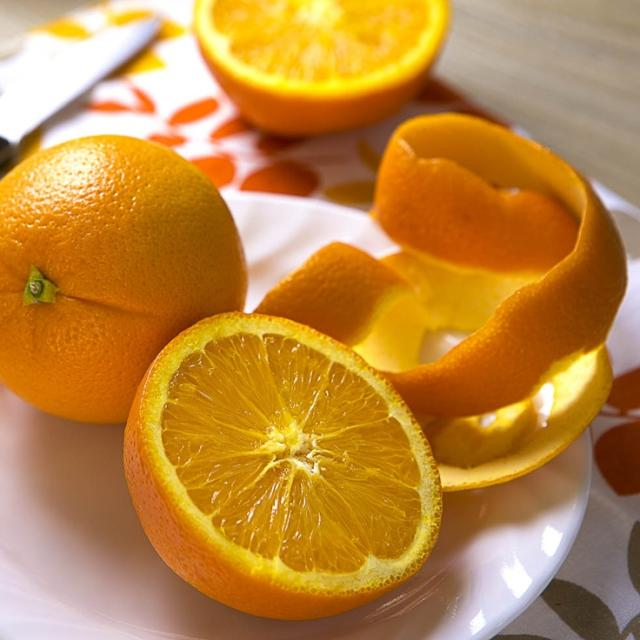orange: (324, 114, 626, 490), (125, 314, 441, 619), (0, 136, 246, 422), (194, 0, 450, 136)
